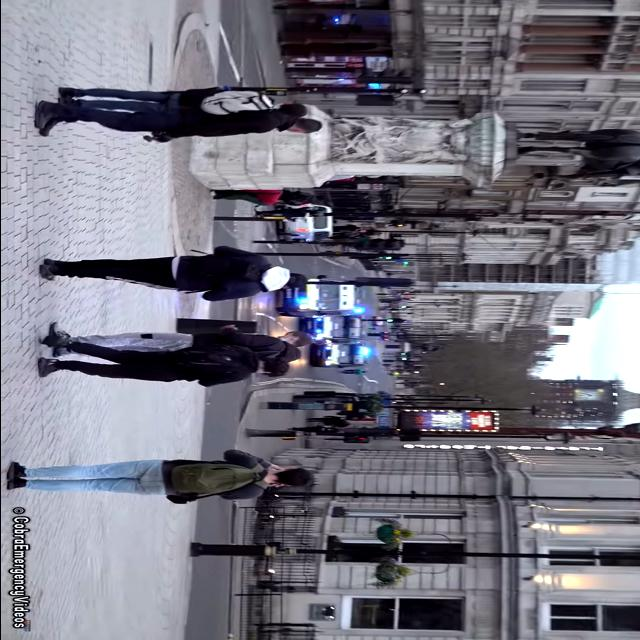emergency-vehicles: (276, 264, 358, 316), (305, 333, 373, 381)
